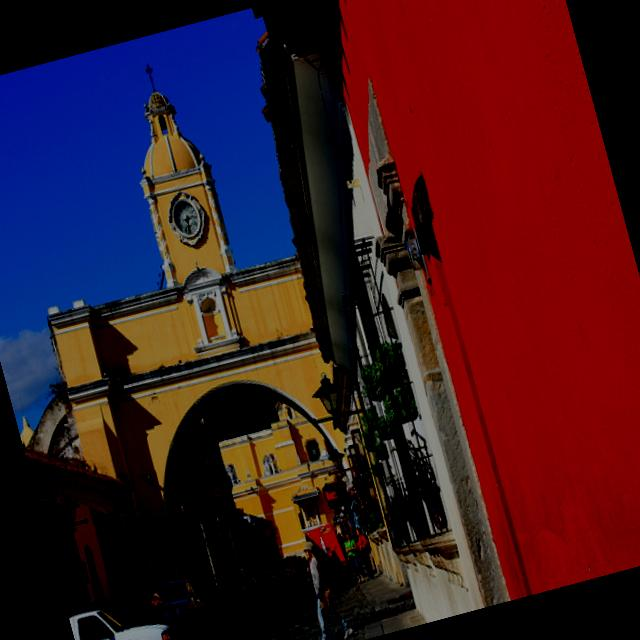Vehicle: (68, 590, 189, 640), (145, 568, 211, 640), (242, 546, 282, 600), (220, 559, 262, 610), (212, 572, 254, 620), (244, 562, 268, 592), (247, 572, 266, 602), (274, 562, 294, 588), (288, 556, 302, 578)
